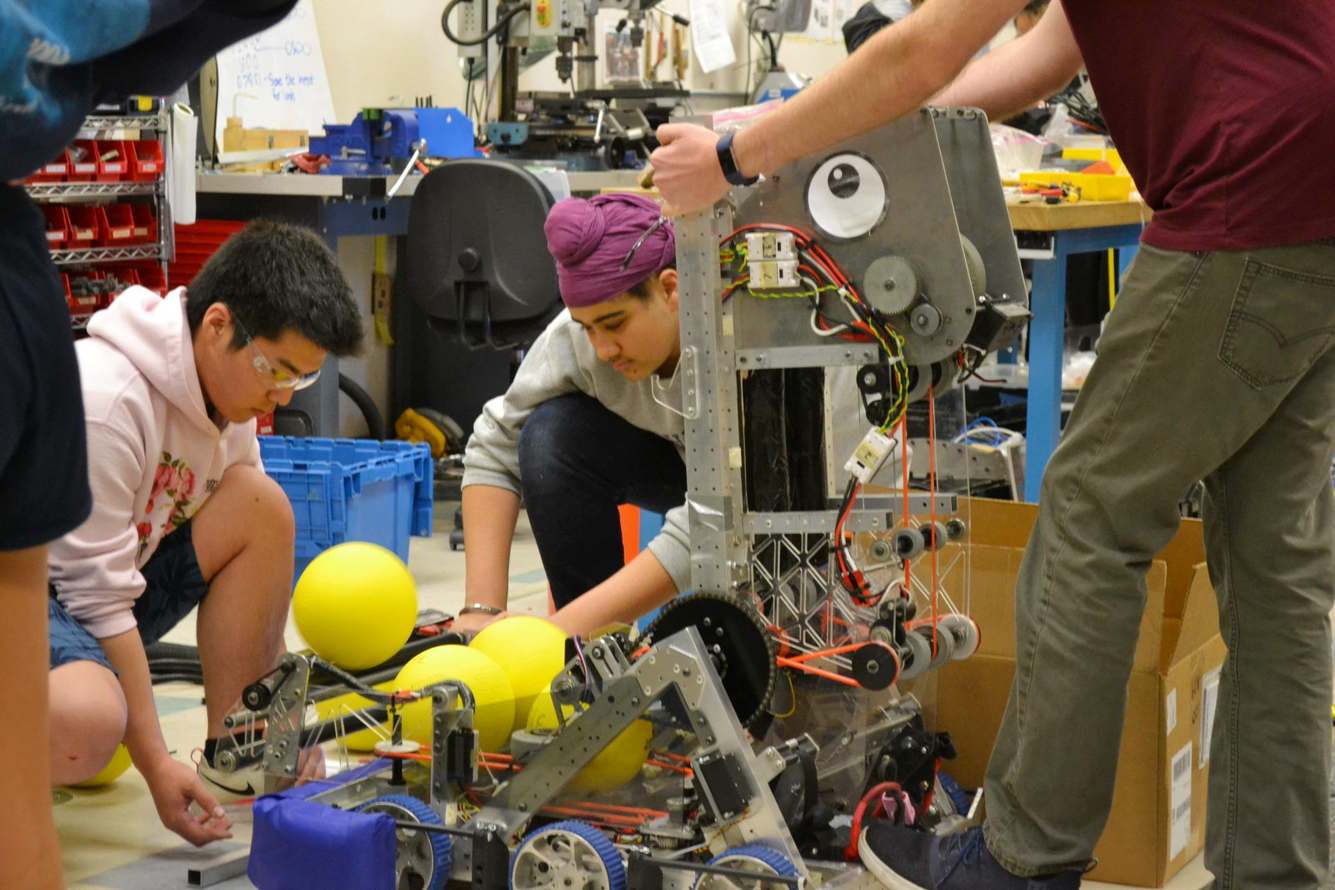robot: (185, 96, 1040, 890)
